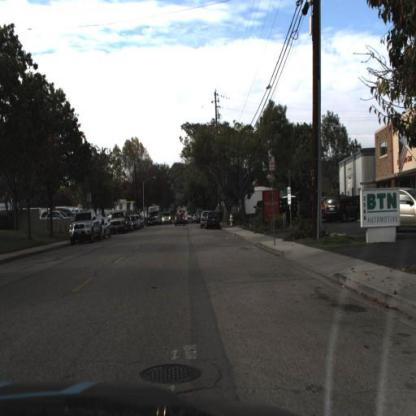car: (66, 206, 104, 249), (324, 194, 361, 225), (325, 193, 362, 223), (107, 209, 131, 240), (38, 206, 72, 224), (204, 207, 222, 233), (252, 198, 268, 218), (173, 208, 186, 226)
